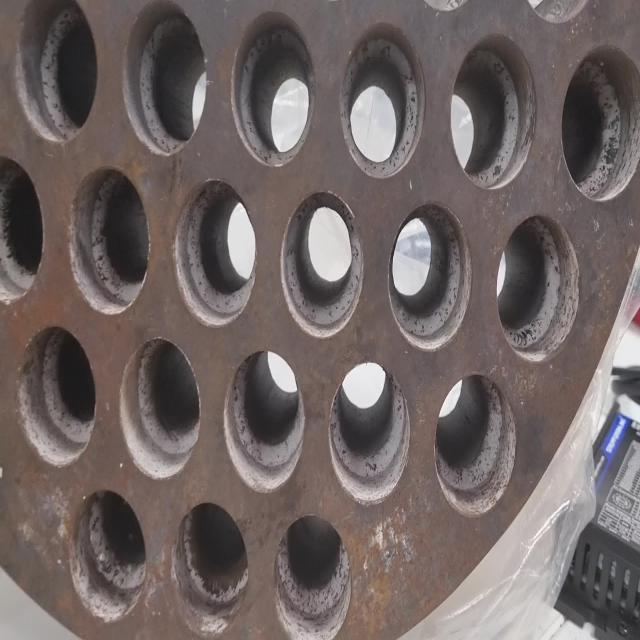Hole: (339, 21, 425, 180), (449, 33, 536, 189), (230, 10, 314, 169), (122, 2, 207, 156), (388, 200, 472, 351), (280, 189, 364, 339), (172, 180, 256, 328), (496, 214, 580, 362), (560, 46, 639, 202), (13, 0, 98, 144), (68, 165, 149, 316), (434, 371, 517, 518), (118, 336, 201, 480), (223, 348, 304, 493), (16, 324, 96, 468), (328, 362, 409, 504), (170, 499, 248, 636), (69, 487, 147, 621), (275, 514, 351, 640), (0, 155, 44, 306)
